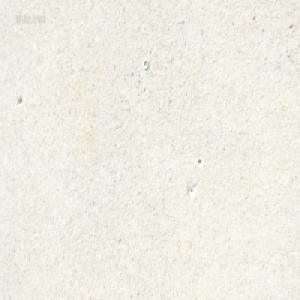Washer: (142, 58, 149, 69)
